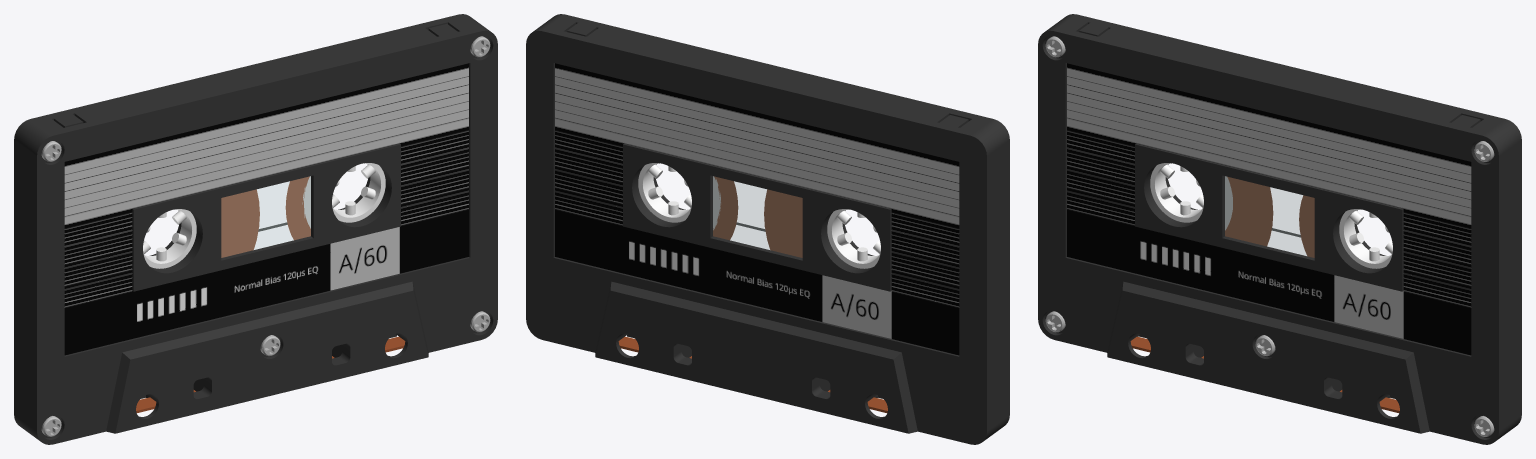
Rendered from cassette.glb.
The picture shows the model from 3 angles, left to right: view 1: azimuth 30°, elevation 25°; view 2: azimuth 150°, elevation 25°; view 3: azimuth 330°, elevation 25°; orthographic projection.
Visible parts, largest first — view 1: Body, Tape (×3), Sprocket (×2); view 2: Body, Tape (×3), Sprocket (×2); view 3: Body, Tape (×3), Sprocket (×2).
Part boxes in pixels (x1,y1,x2,y2): Body: [14, 14, 497, 444]; Tape (×3): [136, 176, 405, 412]; Sprocket (×2): [143, 163, 385, 268]; Body: [526, 14, 1009, 444]; Tape (×3): [618, 176, 887, 412]; Sprocket (×2): [638, 163, 880, 268]; Body: [1038, 14, 1521, 444]; Tape (×3): [1130, 176, 1399, 412]; Sprocket (×2): [1150, 163, 1392, 268].
Bounding box in the file's own units: 0.1 × 0.064 × 0.012.
8 materials, 2 textured.
